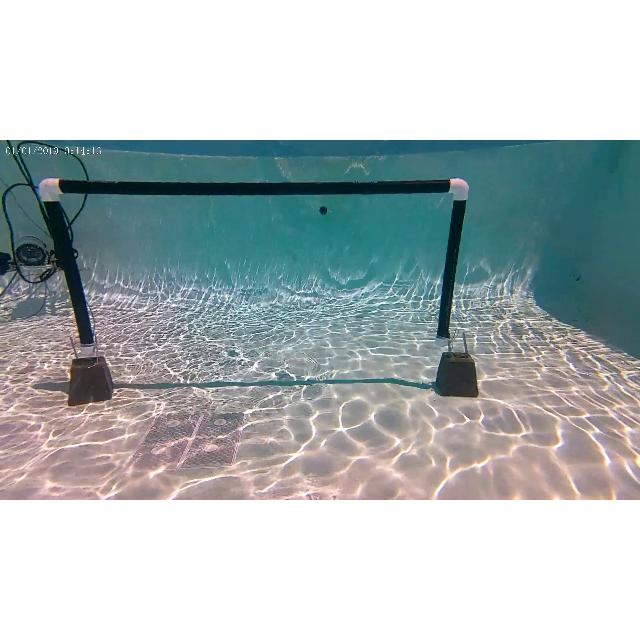prequal gate: (38, 178, 470, 354)
prequal gate leg l: (36, 176, 106, 380)
prequal gate leg r: (431, 177, 473, 371)
